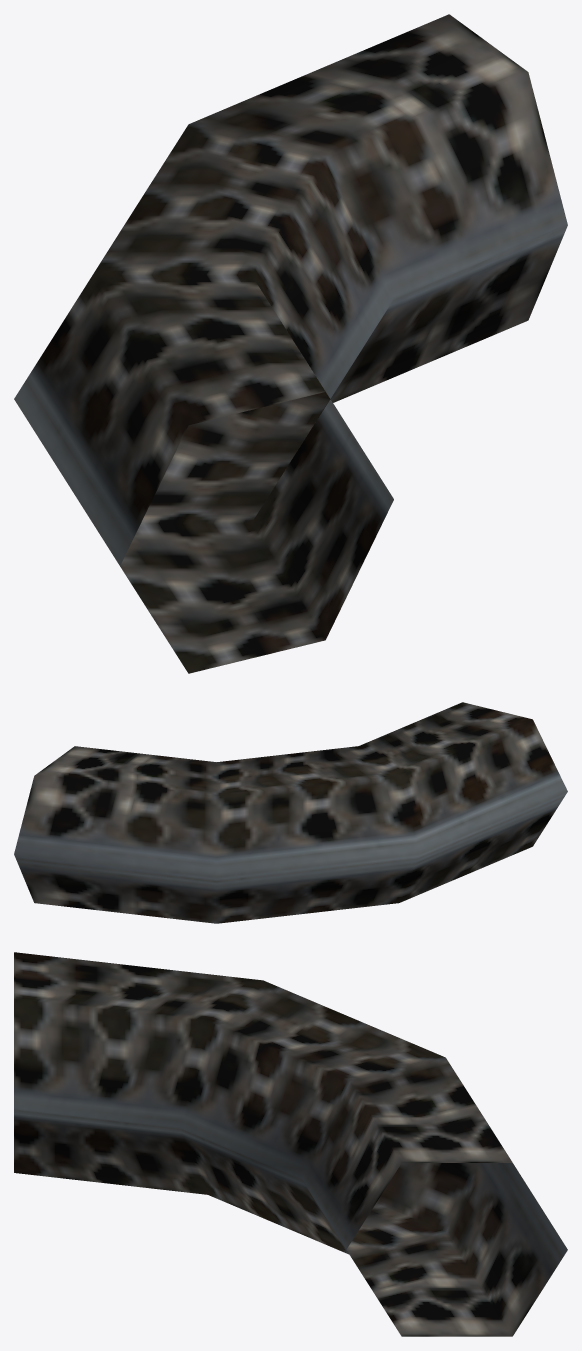
File: small_mesh_4_elbow_hz.fbx
The picture shows the model from 3 angles, top to bottom: view 1: azimuth 30°, elevation 25°; view 2: azimuth 150°, elevation 25°; view 3: azimuth 270°, elevation 25°; orthographic projection. The views are drawn at different scales.
Parts seen in each view (by area): view 1: allPipes:pTorus12; view 2: allPipes:pTorus12; view 3: allPipes:pTorus12.
Part boxes in pixels (<box>): allPipes:pTorus12: <box>14,14,567,673</box>; allPipes:pTorus12: <box>14,702,567,923</box>; allPipes:pTorus12: <box>14,952,567,1336</box>.
Bounding box in the file's own units: 0.625 × 0.2165 × 0.625.
